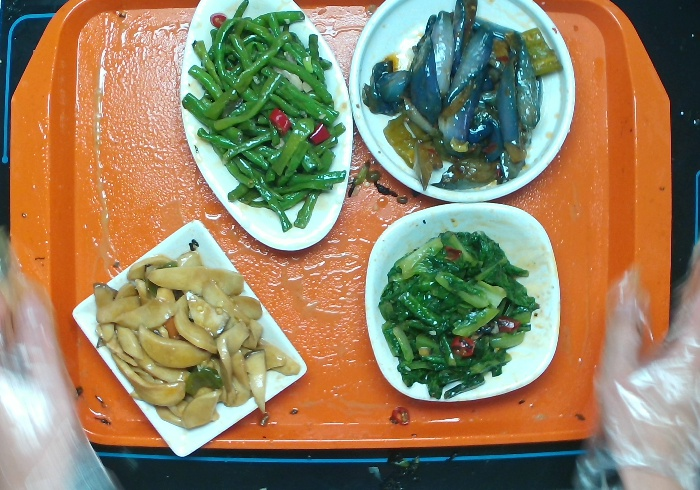HZYJPL-Si_Fang_Die: (71, 218, 311, 459)
HZYJPL-Si_Fang_Yuan_Die: (364, 201, 561, 404)
HZYJPL-Xiao_Yu_Die: (176, 1, 352, 253)
HZYJPL-Xiao_Yuan_Die: (349, 1, 576, 202)
